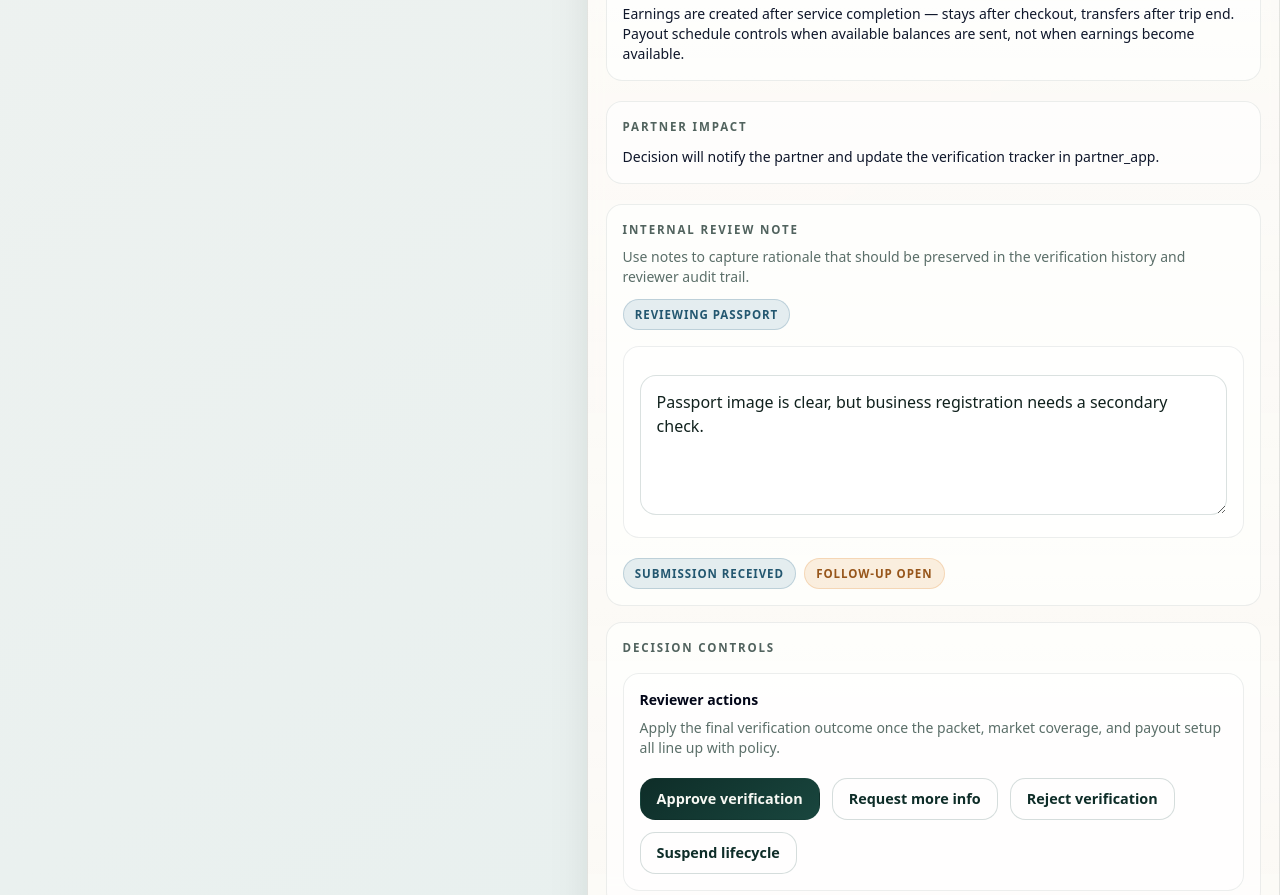
it: VerificationReviewWorkspace › allows reviewers to approve a verification case and updates lifecycle output
(page scrolled)
Step 1. Replace the text in the text box with placeholder "Add approval rationale" with "Documents match onboarding profile." → (934, 445), box [640,375,1227,515]
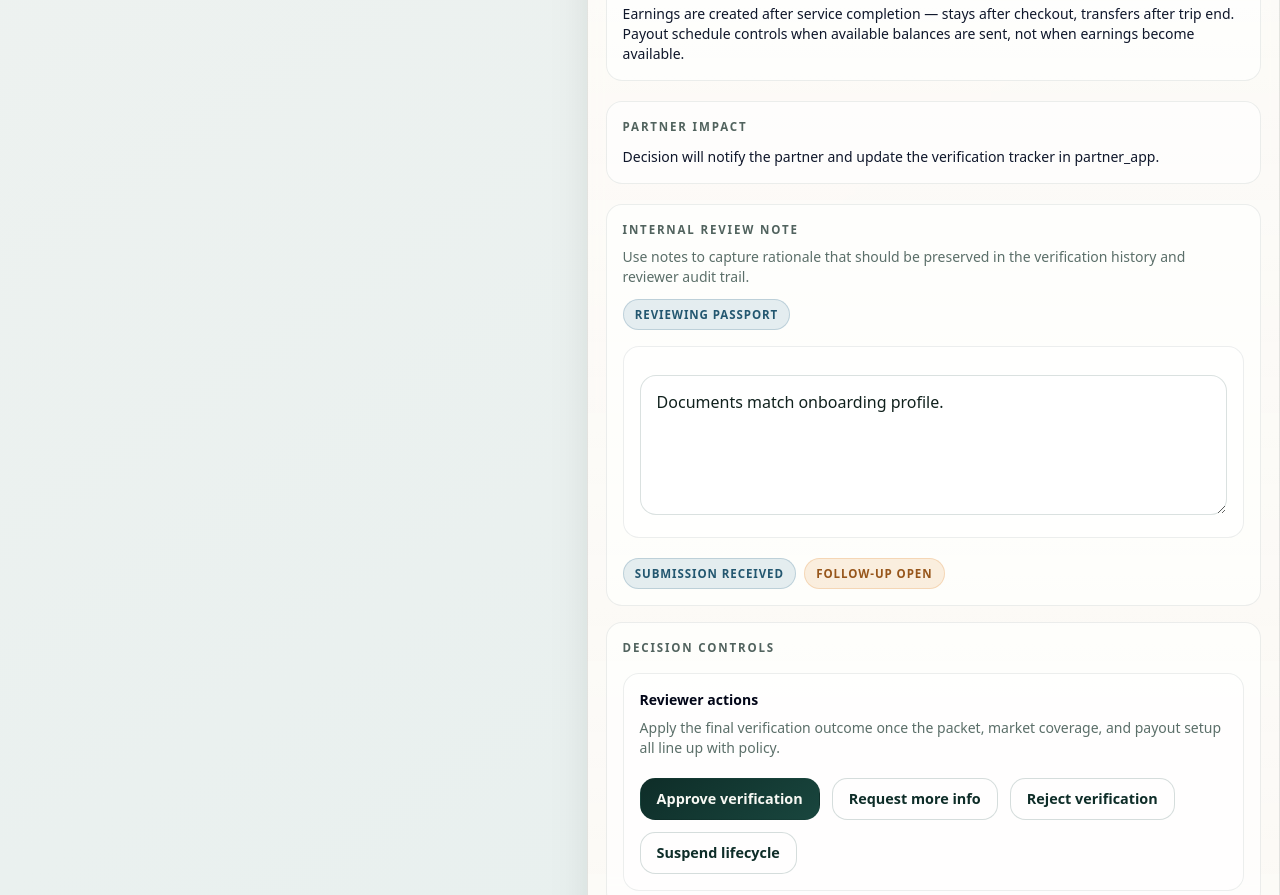
Step 2. Click the button "Approve verification" → (730, 799), box [640,778,820,820]
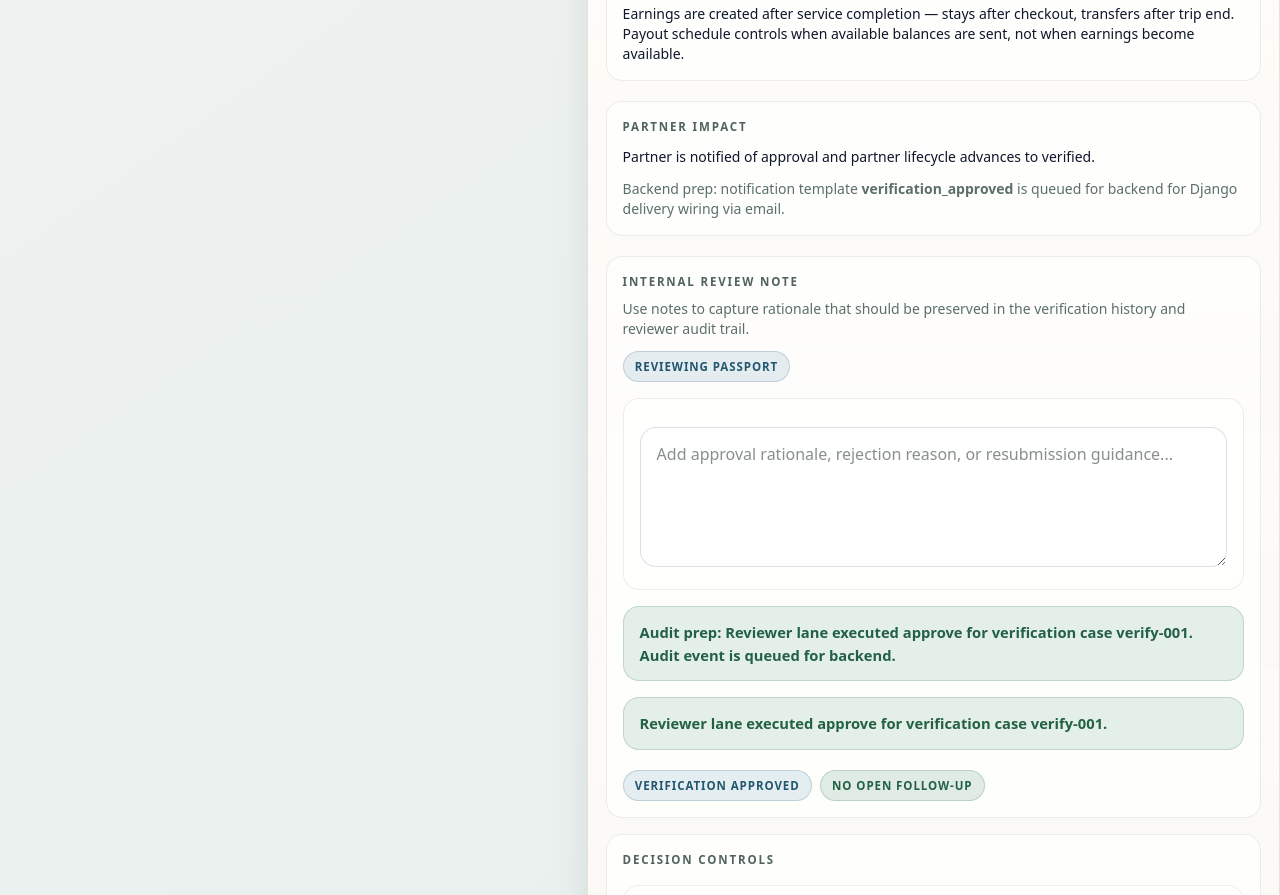
Check: the text "Partner is notified of approval and partner lifecycle advances to verified." is shown, box [623,147,1095,166]
Check: the text "Audit prep:" is shown, box [640,622,725,642]
Check: the text "verification_approved" is shown, box [862,179,1013,198]
